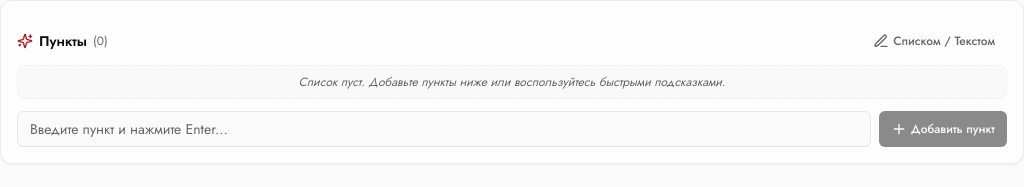
it: ItemsArrayInput Component › adds item via Enter key in input field
The image size is (1024, 187).
Type "Трансфер из аэропорта" into the field with placeholder "Введите пункт и нажмите Enter...".
click(444, 129); type("Трансфер из аэропорта")  # box [17,111,871,147]
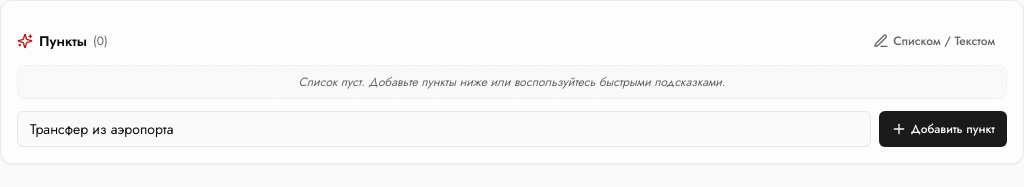
Press Enter in the field with placeholder "Введите пункт и нажмите Enter...", box [17,111,871,147]
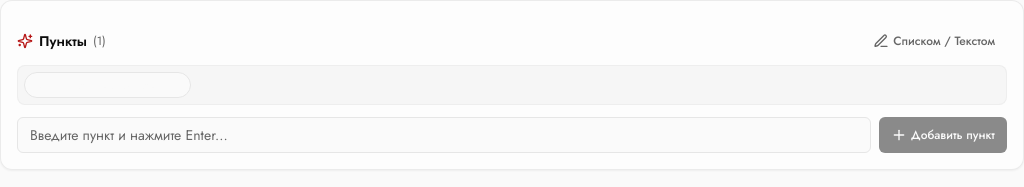
Now the field with placeholder "Введите пункт и нажмите Enter..." is empty, box [17,117,871,153]
